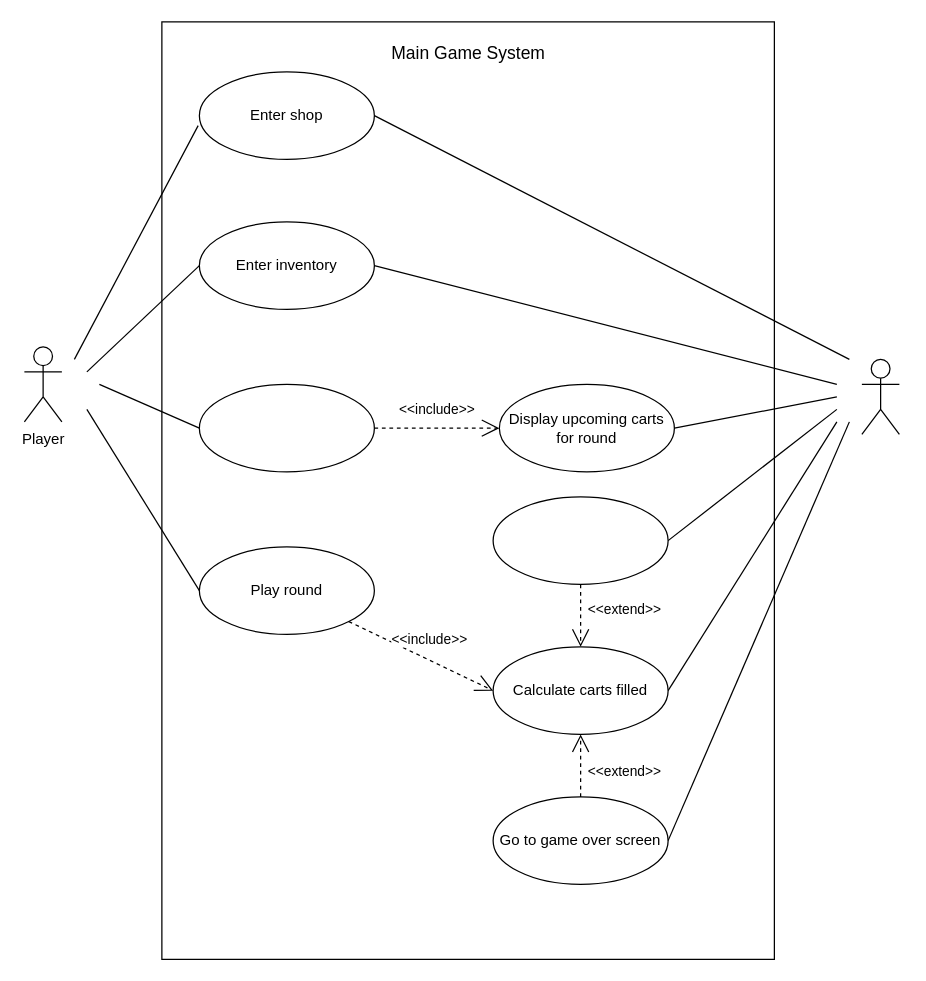
The diagram is 926 pixels wide and 981 high, and some of its shapes have lost their labels. Each missing label, with the centre of its shape:
Execute round completed tasks: point (580, 540)
Select round difficulty: point (286, 427)
System: point (880, 396)
